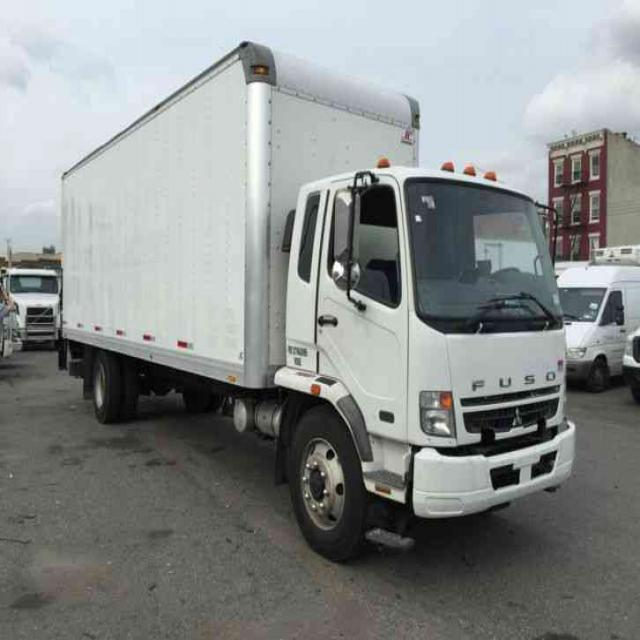truck: (61, 41, 575, 560)
